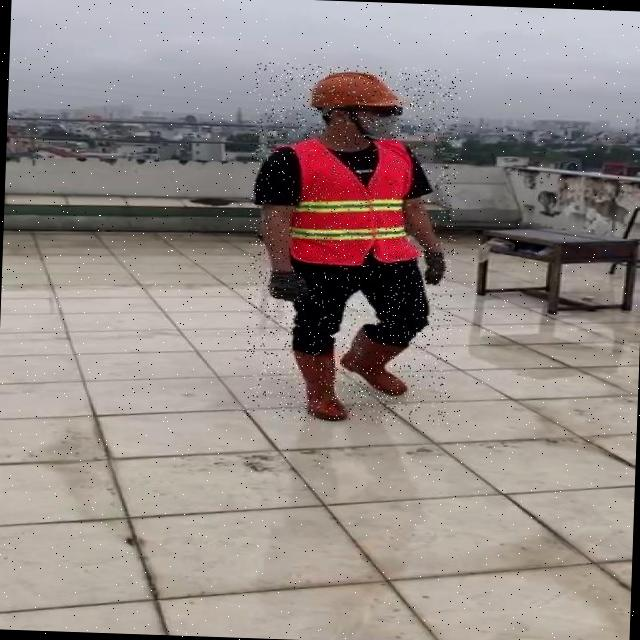boots: (340, 326, 410, 394), (288, 350, 350, 420)
helmet: (302, 64, 409, 112)
vest: (278, 138, 426, 268)
